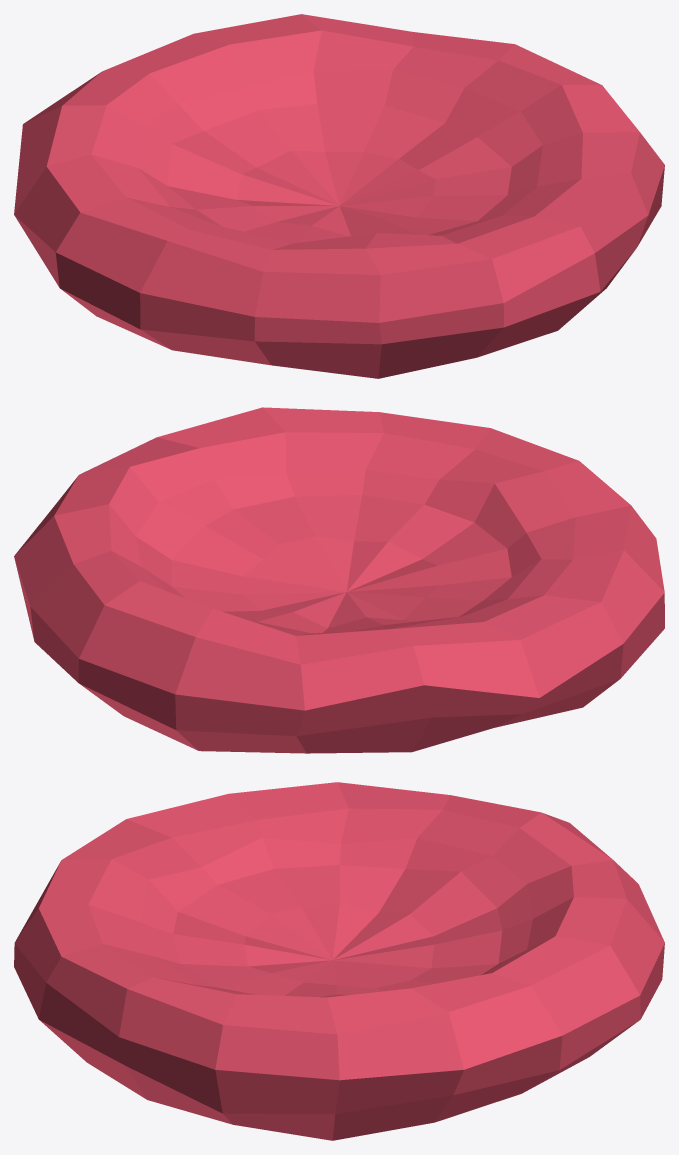
The model's file is RBC_paper.fbx.
The picture shows the model from 3 angles, top to bottom: view 1: azimuth 30°, elevation 25°; view 2: azimuth 150°, elevation 25°; view 3: azimuth 270°, elevation 25°; orthographic projection.
Visible parts, largest first — view 1: Torus_001; view 2: Torus_001; view 3: Torus_001.
Boxes of the visible parts, bbox=[...] form: Torus_001: bbox=[14, 14, 664, 378]; Torus_001: bbox=[14, 407, 664, 753]; Torus_001: bbox=[14, 782, 664, 1140].
Size of the model in its own units: 2.5 by 0.5877 by 2.5.
